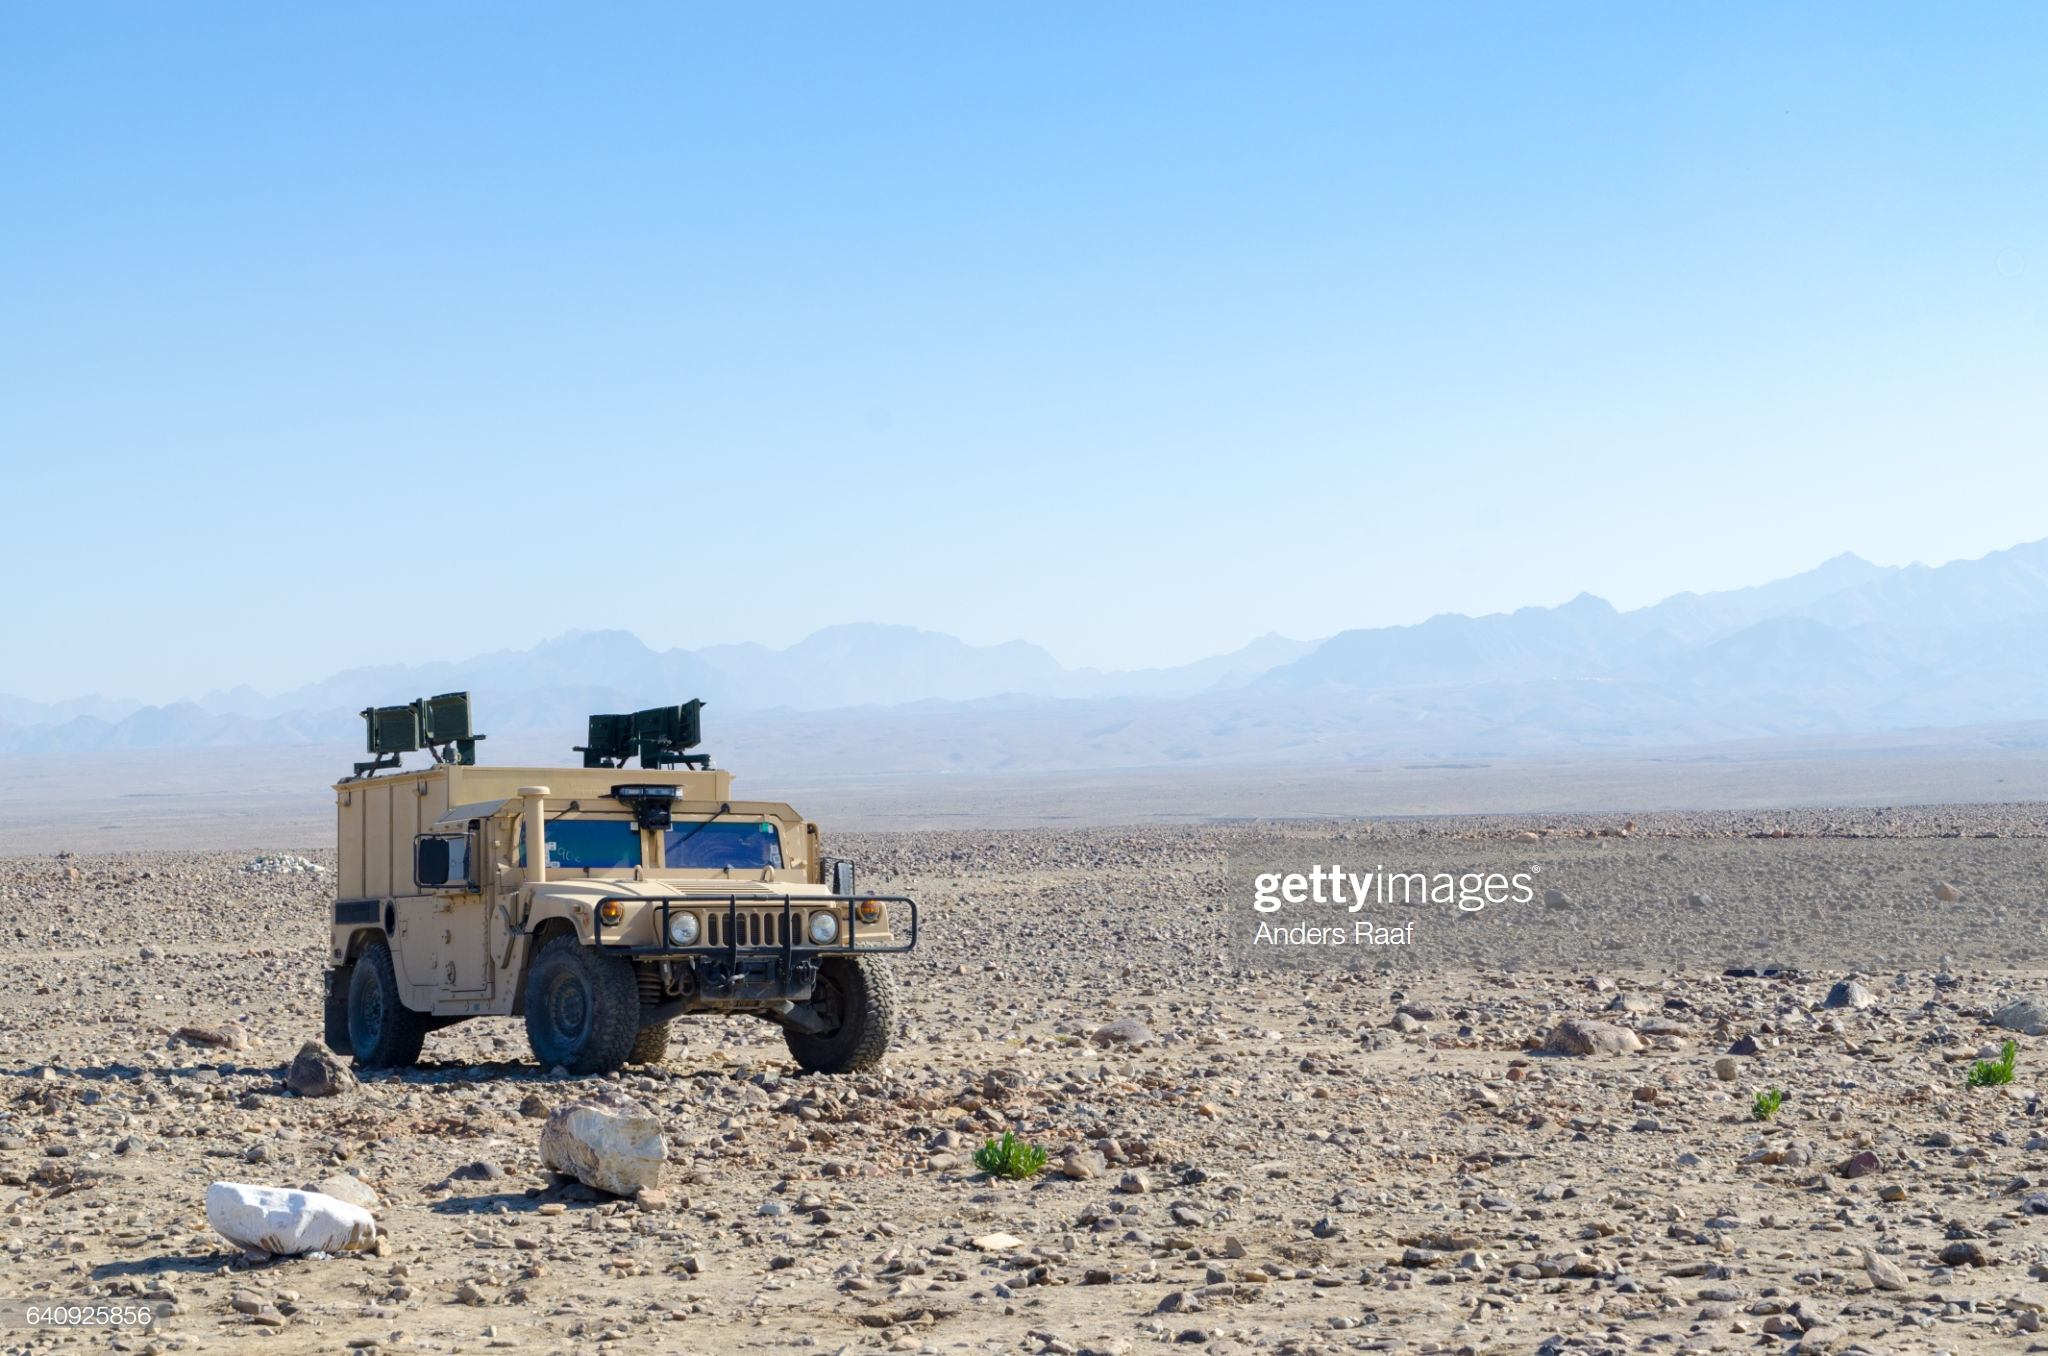hummer: (336, 757, 897, 1078)
